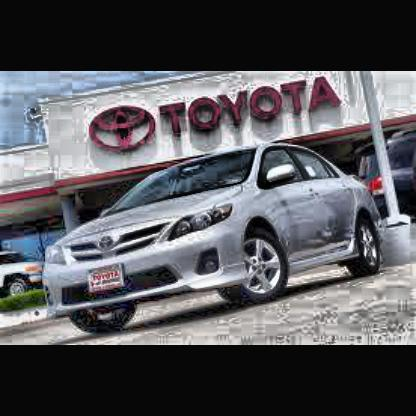Toyota Corolla Sedan 2012: (37, 139, 395, 340)
